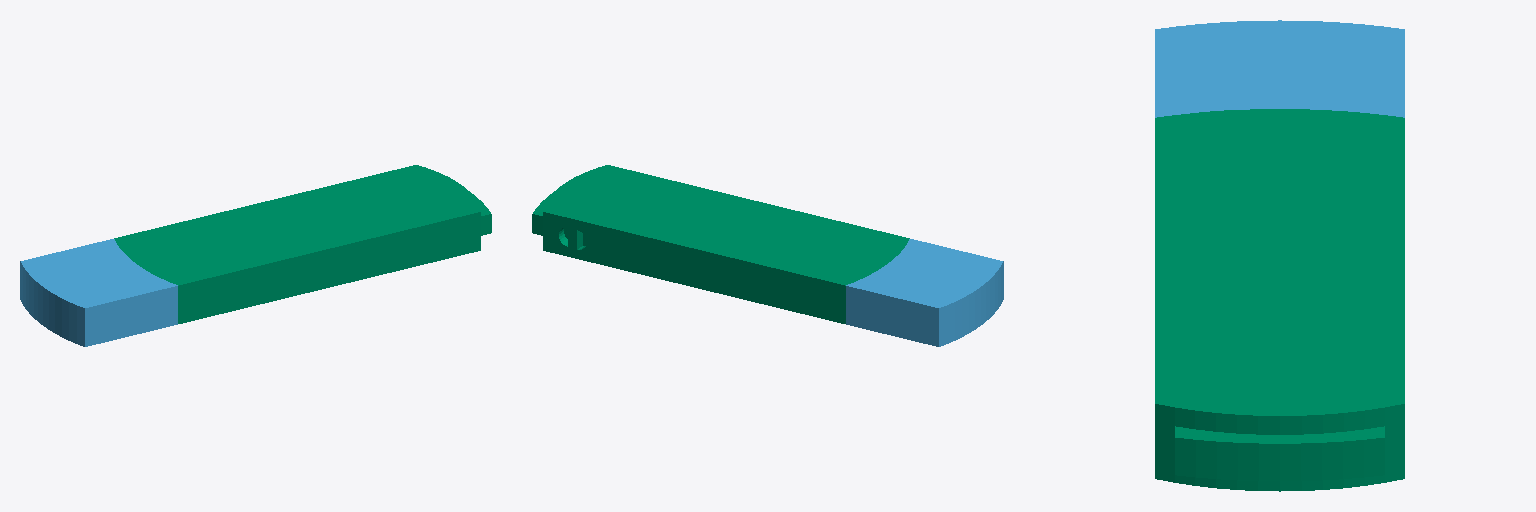
URDF robot description (partnet_97c1cde6736fab49f68b877f0cbc1f72):
<?xml version="1.0" ?>
<robot name="partnet_97c1cde6736fab49f68b877f0cbc1f72">
	<link name="base"/>
	<link name="link_0">
		<visual name="cap-1">
			<origin xyz="0 0 0"/>
			<geometry>
				<mesh filename="textured_objs/original-4.obj"/>
			</geometry>
		</visual>
		<collision>
			<origin xyz="0 0 0"/>
			<geometry>
				<mesh filename="textured_objs/original-4.obj"/>
			</geometry>
		</collision>
	</link>
	<joint name="joint_0" type="prismatic">
		<origin xyz="0 0 0"/>
		<axis xyz="0 0 1"/>
		<child link="link_0"/>
		<parent link="link_1"/>
		<limit lower="0" upper="0.34399999999999986"/>
	</joint>
	<link name="link_1">
		<visual name="base_body-2">
			<origin xyz="0 0 0"/>
			<geometry>
				<mesh filename="textured_objs/original-3.obj"/>
			</geometry>
		</visual>
		<visual name="base_body-2">
			<origin xyz="0 0 0"/>
			<geometry>
				<mesh filename="textured_objs/original-2.obj"/>
			</geometry>
		</visual>
		<collision>
			<origin xyz="0 0 0"/>
			<geometry>
				<mesh filename="textured_objs/original-3.obj"/>
			</geometry>
		</collision>
		<collision>
			<origin xyz="0 0 0"/>
			<geometry>
				<mesh filename="textured_objs/original-2.obj"/>
			</geometry>
		</collision>
	</link>
	<joint name="joint_1" type="fixed">
		<origin rpy="1.570796326794897 0 -1.570796326794897" xyz="0 0 0"/>
		<child link="link_1"/>
		<parent link="base"/>
	</joint>
</robot>

--- Render facts (derived) ---
Views: 3 orthographic renders of the robot side by side, from view 1: azimuth 30°, elevation 25°; view 2: azimuth 150°, elevation 25°; view 3: azimuth 270°, elevation 25°.
Robot: partnet_97c1cde6736fab49f68b877f0cbc1f72 — 3 links, 2 joints (1 prismatic, 1 fixed); root link base; default pose: all joints at 0.
Links seen in each view (by area): view 1: link_1, link_0; view 2: link_1, link_0; view 3: link_1, link_0.
Link boxes in pixels (<box>): link_1: <box>114,165,491,323</box>; link_0: <box>20,239,177,346</box>; link_1: <box>532,165,909,323</box>; link_0: <box>846,239,1003,346</box>; link_1: <box>1155,109,1404,491</box>; link_0: <box>1155,20,1404,117</box>.
Size in the robot's own frame: 1.82 by 0.4758 by 0.1586 metres.
3 mesh visuals loaded from 3 distinct referenced files (3 OBJ).